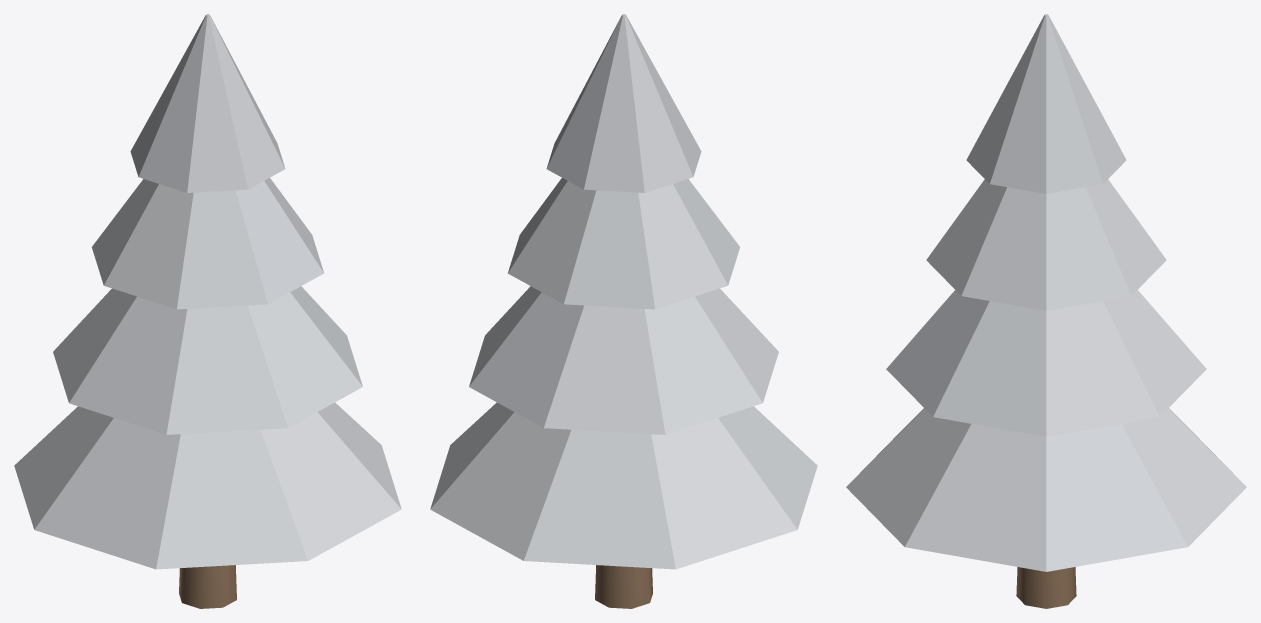
The model's file is snow_pine.glb.
3 renders of one model, left to right at view 1: azimuth 30°, elevation 25°; view 2: azimuth 150°, elevation 25°; view 3: azimuth 270°, elevation 25°, orthographic.
Visible parts, largest first — view 1: snow_pine_m; view 2: snow_pine_m; view 3: snow_pine_m.
Part boxes in pixels (x1,y1,x2,y2): snow_pine_m: (14, 14, 401, 608); snow_pine_m: (430, 14, 817, 608); snow_pine_m: (846, 14, 1246, 608).
Size of the model in its own units: 4 by 6.4 by 4.
